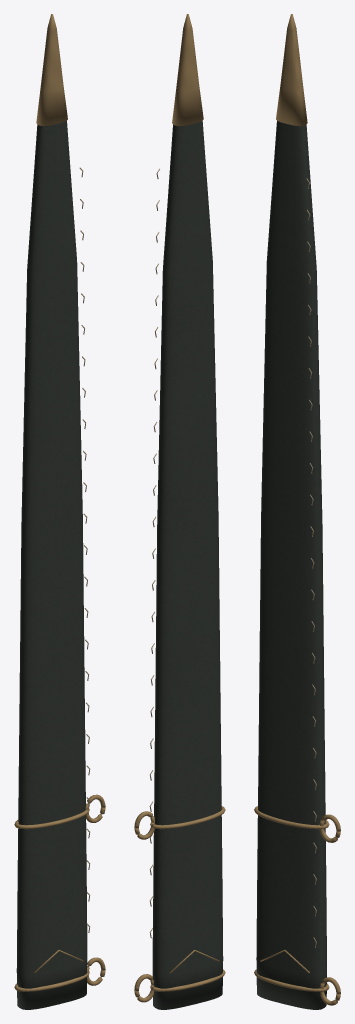
Rendered from scabbard_lod0.glb.
The picture shows the model from 3 angles, left to right: view 1: azimuth 30°, elevation 25°; view 2: azimuth 210°, elevation 25°; view 3: azimuth 330°, elevation 25°; orthographic projection.
Visible parts, largest first — view 1: ScabbardMesh_LOD0; view 2: ScabbardMesh_LOD0; view 3: ScabbardMesh_LOD0.
Part boxes in pixels (x1=…): ScabbardMesh_LOD0: x1=14, y1=14, x2=105, y2=1009; ScabbardMesh_LOD0: x1=134, y1=14, x2=225, y2=1009; ScabbardMesh_LOD0: x1=254, y1=14, x2=340, y2=1009.
Size of the model in its own units: 0.0932 by 0.999 by 0.03.
Materials: 3 (2 with a texture image).
